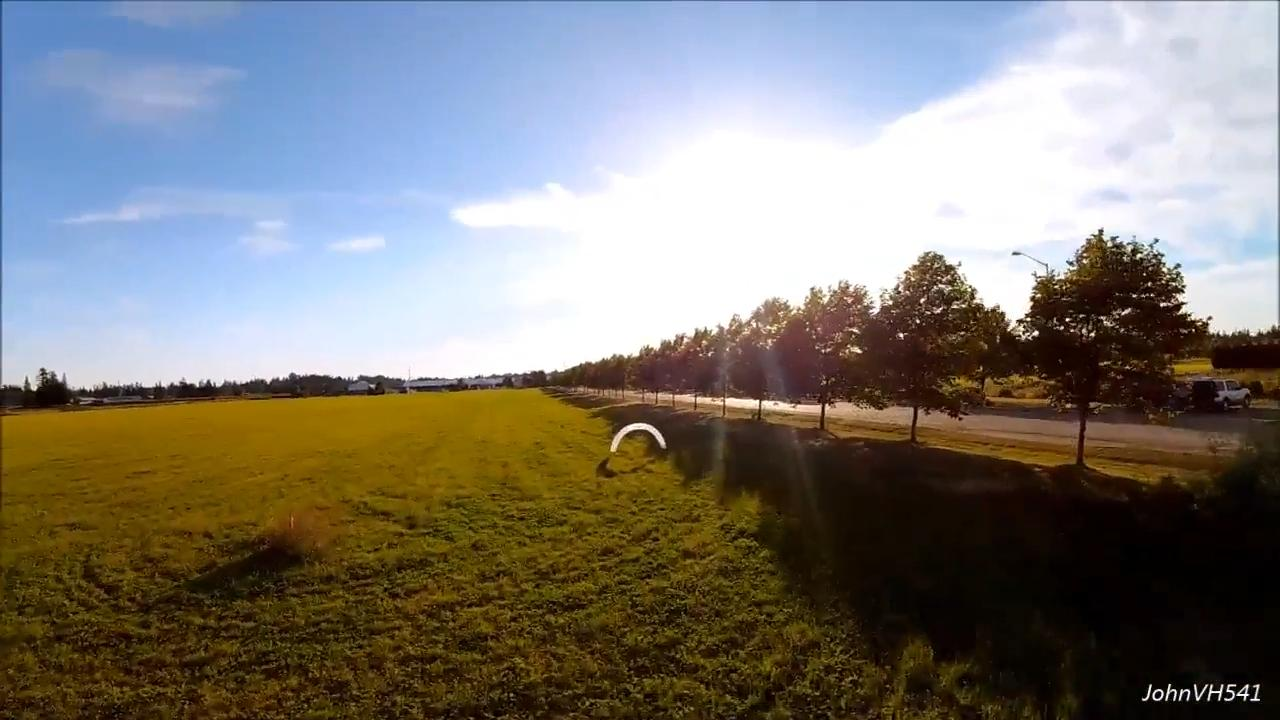gate: (610, 423, 667, 456)
